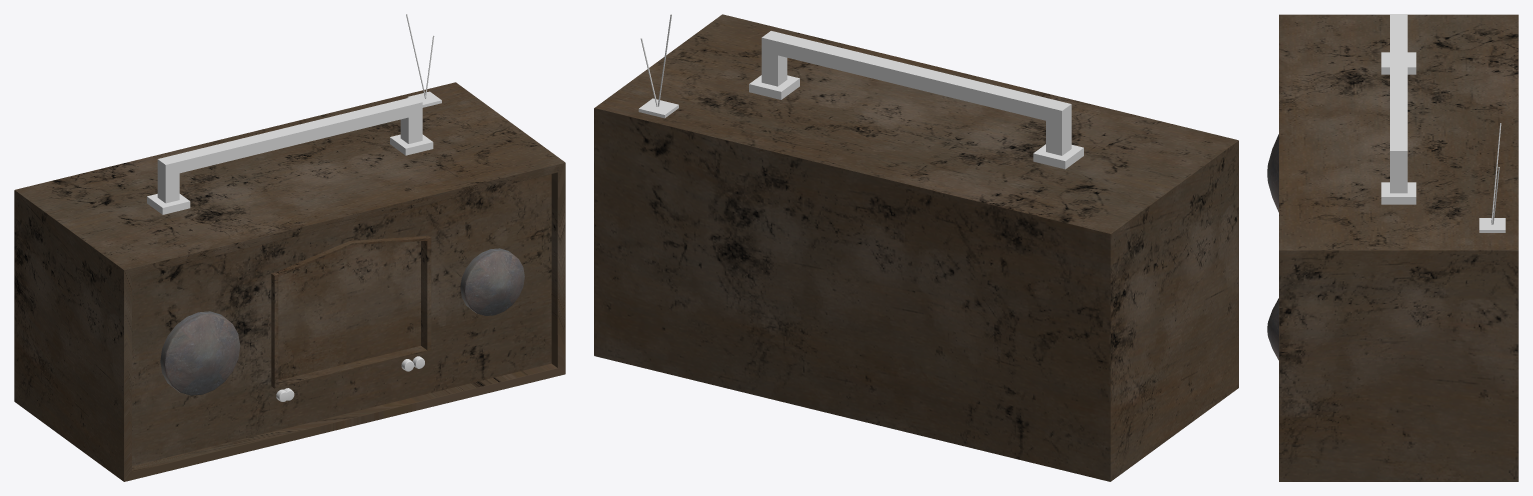
Rendered from teyp_final.fbx.
3 views of the same model, side by side, from view 1: azimuth 30°, elevation 25°; view 2: azimuth 150°, elevation 25°; view 3: azimuth 270°, elevation 25° (orthographic). The views are drawn at different scales.
Visible parts, largest first — view 1: pCube1, pCube2, pCylinder1, pCylinder2; view 2: pCube1, pCube2; view 3: pCube1, pCube2, pCylinder1, pCylinder2, pCube3.
Boxes of the visible parts, x1=… form: pCube1: x1=14, y1=82, x2=565, y2=481; pCube2: x1=147, y1=96, x2=433, y2=214; pCylinder1: x1=160, y1=311, x2=240, y2=395; pCylinder2: x1=460, y1=248, x2=524, y2=315; pCube1: x1=594, y1=14, x2=1238, y2=481; pCube2: x1=749, y1=31, x2=1083, y2=169; pCube1: x1=1279, y1=14, x2=1518, y2=481; pCube2: x1=1381, y1=14, x2=1416, y2=204; pCylinder1: x1=1267, y1=134, x2=1278, y2=212; pCylinder2: x1=1267, y1=298, x2=1278, y2=360; pCube3: x1=1479, y1=218, x2=1505, y2=232.
Bounding box in the file's own units: 22.12 × 14.36 × 9.97.
3 materials, 2 textured.
